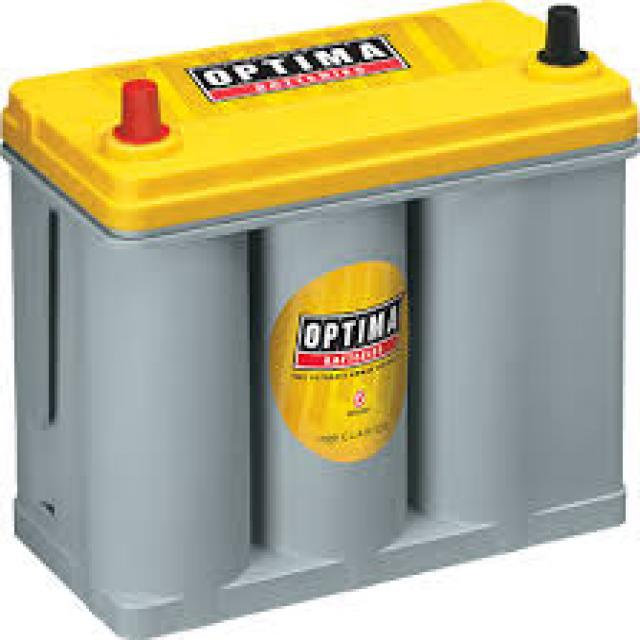hazard: (0, 1, 640, 623)
